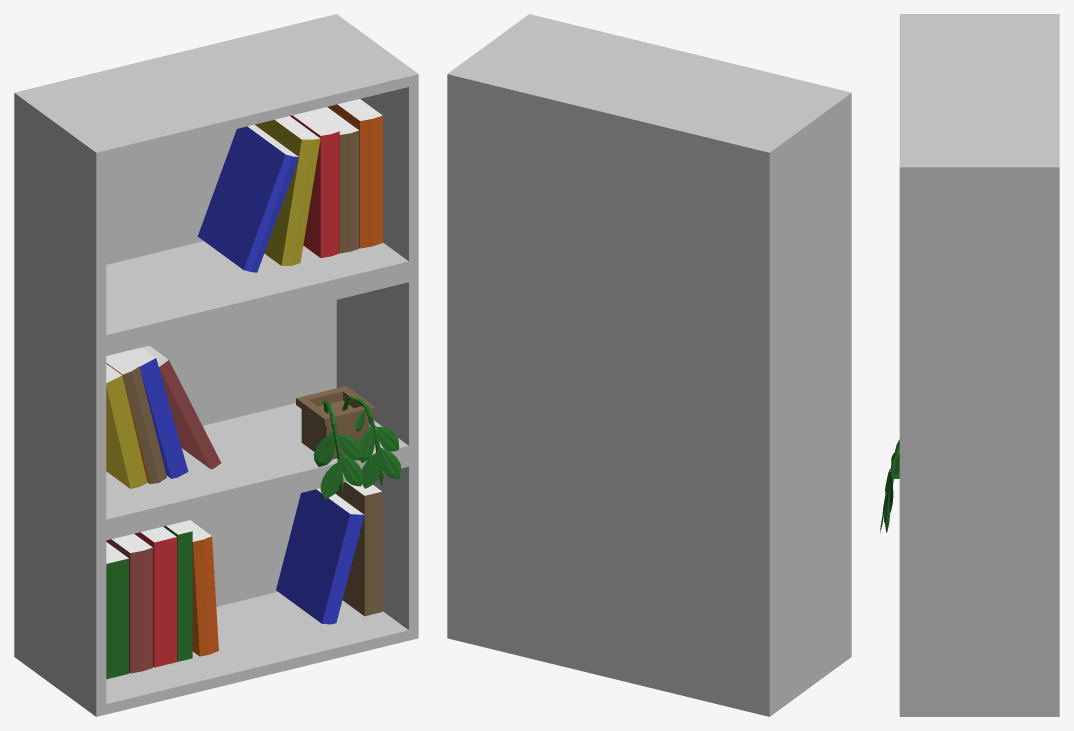
File: BooksShelf_04.obj
The picture shows the model from 3 angles, left to right: view 1: azimuth 30°, elevation 25°; view 2: azimuth 150°, elevation 25°; view 3: azimuth 270°, elevation 25°; orthographic projection. The views are drawn at different scales.
Visible parts, largest first — view 1: BookShelf04; view 2: BookShelf04; view 3: BookShelf04.
Part boxes in pixels (left/top/right/bottom): BookShelf04: left=14, top=14, right=418, bottom=716; BookShelf04: left=447, top=14, right=851, bottom=716; BookShelf04: left=880, top=14, right=1059, bottom=716.
Bounding box in the file's own units: 4.53 × 7.58 × 2.24.
